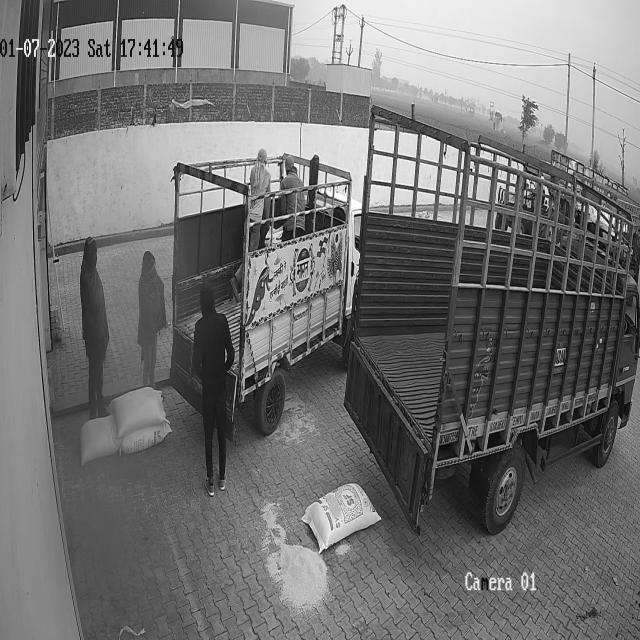sack: (300, 482, 381, 554), (110, 387, 165, 437), (80, 416, 118, 464), (121, 422, 172, 454)
